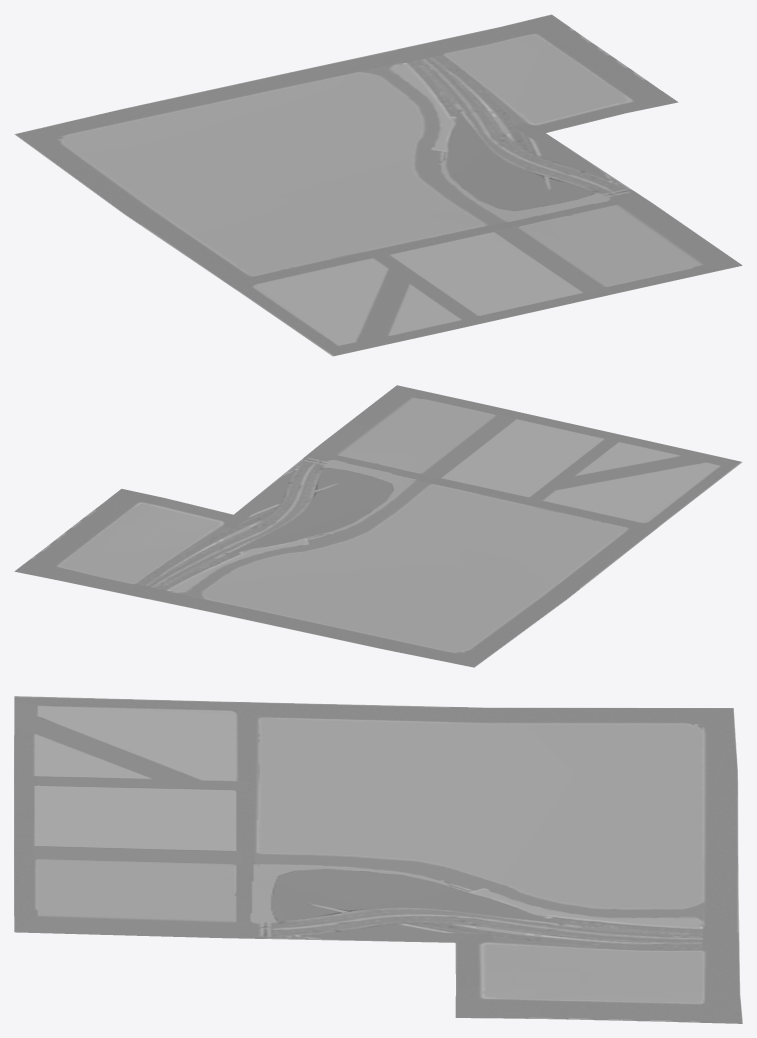
File: SEA_1988201155_New2020Land.FBX
3 renders of one model, top to bottom at view 1: azimuth 30°, elevation 25°; view 2: azimuth 150°, elevation 25°; view 3: azimuth 270°, elevation 25°, orthographic. The views are drawn at different scales.
Visible parts, largest first — view 1: SEA_1988201155_New2020Land; view 2: SEA_1988201155_New2020Land; view 3: SEA_1988201155_New2020Land.
Boxes of the visible parts, x1,y1,x2,y2 form: SEA_1988201155_New2020Land: (14, 14, 742, 356); SEA_1988201155_New2020Land: (14, 385, 742, 667); SEA_1988201155_New2020Land: (14, 696, 742, 1023).
Size of the model in its own units: 416 by 19.09 by 429.
1 material, 1 textured.
